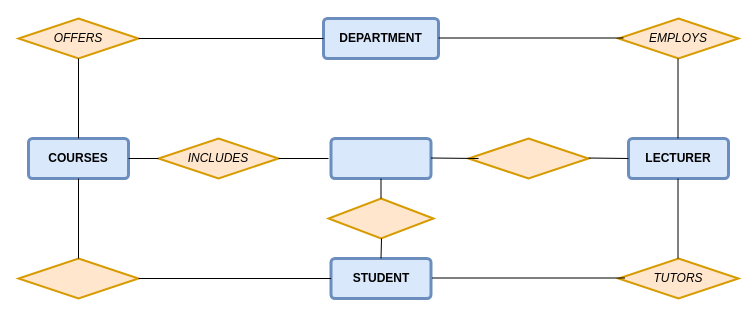
Some shapes in this 756 by 317 pixel diagram are drawn without their labels. The box of each missing label's shape, as (x1, y1, x2, y2) in pixels:
ENROLS IN: (17, 257, 139, 299)
MODULE: (329, 136, 432, 180)
TAKES: (327, 197, 434, 239)
TEACHES: (467, 137, 589, 179)
